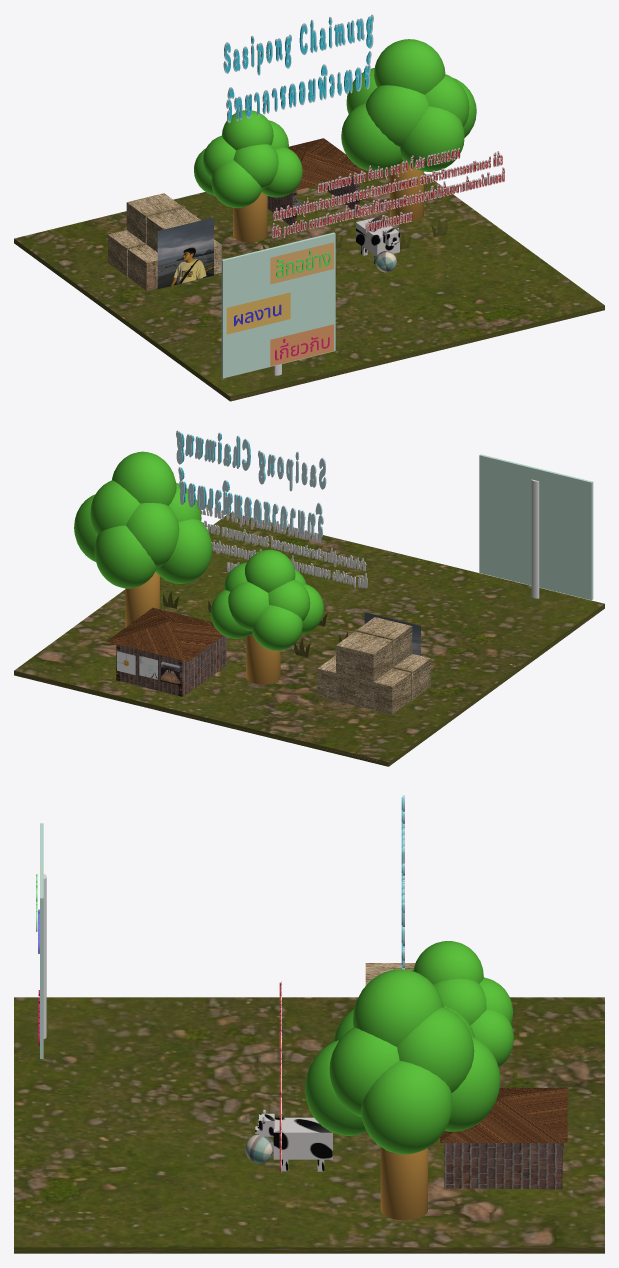
Rendered from gui.glb.
3 views of the same model, one above another, from view 1: azimuth 30°, elevation 25°; view 2: azimuth 150°, elevation 25°; view 3: azimuth 270°, elevation 25° (orthographic). The views are drawn at different scales.
Parts seen in each view (by area): view 1: Cube, Cylinder.001, Plane.011, Sphere.005, Text.006, Plane.001, Text.002, Text, Pooh, Text.001, Plane.010, Plane.013 (+6 smaller); view 2: Cube, Cylinder.001, Plane.011, Sphere.005, Plane.001, Text.001, Text.006, Plane.010, Plane.008, Cylinder.002, Plane.009, Text (+3 smaller); view 3: Cube, Cylinder.001, Sphere.005, Plane.007, Plane.010, Cylinder, Cylinder.004, Plane.011, Sphere, Cylinder.003.
Boxes of the visible parts, <box> form: Cube: <box>14,170,604,401</box>; Cylinder.001: <box>341,39,476,171</box>; Plane.011: <box>221,232,335,378</box>; Sphere.005: <box>194,110,302,208</box>; Text.006: <box>271,148,504,238</box>; Plane.001: <box>108,193,221,290</box>; Text.002: <box>272,149,504,237</box>; Text: <box>225,16,372,120</box>; Pooh: <box>157,217,213,288</box>; Text.001: <box>223,14,373,122</box>; Plane.010: <box>288,138,368,190</box>; Plane.013: <box>226,292,290,334</box>; Cube: <box>14,512,604,766</box>; Cylinder.001: <box>74,451,212,588</box>; Plane.011: <box>479,454,593,600</box>; Sphere.005: <box>210,549,323,650</box>; Plane.001: <box>317,617,430,714</box>; Text.001: <box>176,430,326,538</box>; Text.006: <box>200,504,367,588</box>; Plane.010: <box>106,607,223,661</box>; Plane.008: <box>178,636,226,696</box>; Cylinder.002: <box>246,633,280,684</box>; Plane.009: <box>120,645,178,695</box>; Text: <box>179,431,314,528</box>; Cube: <box>14,997,604,1253</box>; Cylinder.001: <box>305,969,500,1154</box>; Sphere.005: <box>411,941,513,1067</box>; Plane.007: <box>444,1143,562,1189</box>; Plane.010: <box>440,1088,567,1142</box>; Cylinder: <box>380,1147,427,1220</box>; Cylinder.004: <box>255,1109,332,1171</box>; Plane.011: <box>40,823,43,1058</box>; Sphere: <box>245,1134,273,1163</box>; Cylinder.003: <box>43,874,46,1038</box>.
Size of the model in its own units: 0.1026 by 0.0573 by 0.1.
25 materials, 11 textured.
